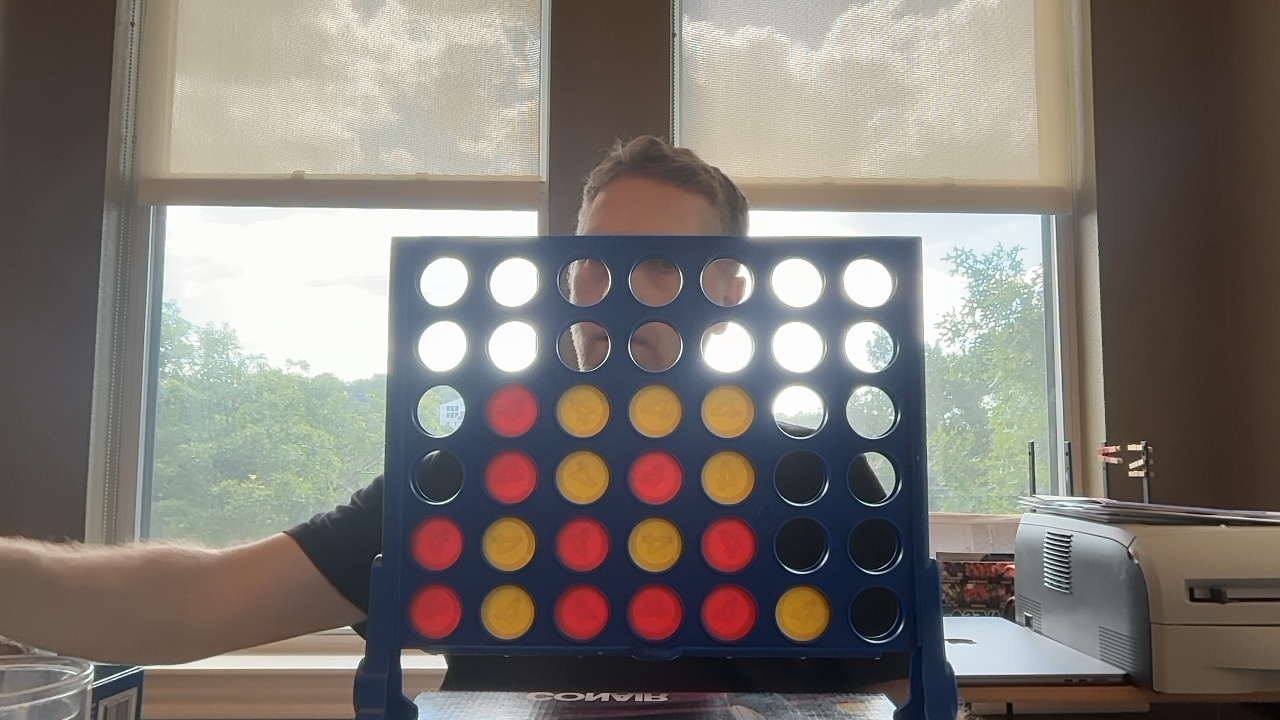red piece: (701, 585, 757, 641), (554, 584, 609, 640), (627, 585, 682, 641), (701, 517, 756, 572), (628, 450, 682, 504), (555, 517, 609, 571), (409, 584, 461, 638), (410, 517, 462, 570), (485, 384, 537, 437), (484, 450, 536, 503)
yellow piece: (775, 586, 830, 641), (480, 585, 534, 639), (701, 451, 754, 505), (628, 518, 681, 572), (482, 517, 535, 571), (556, 450, 609, 504), (557, 384, 609, 437), (629, 384, 681, 437), (701, 384, 753, 437)
